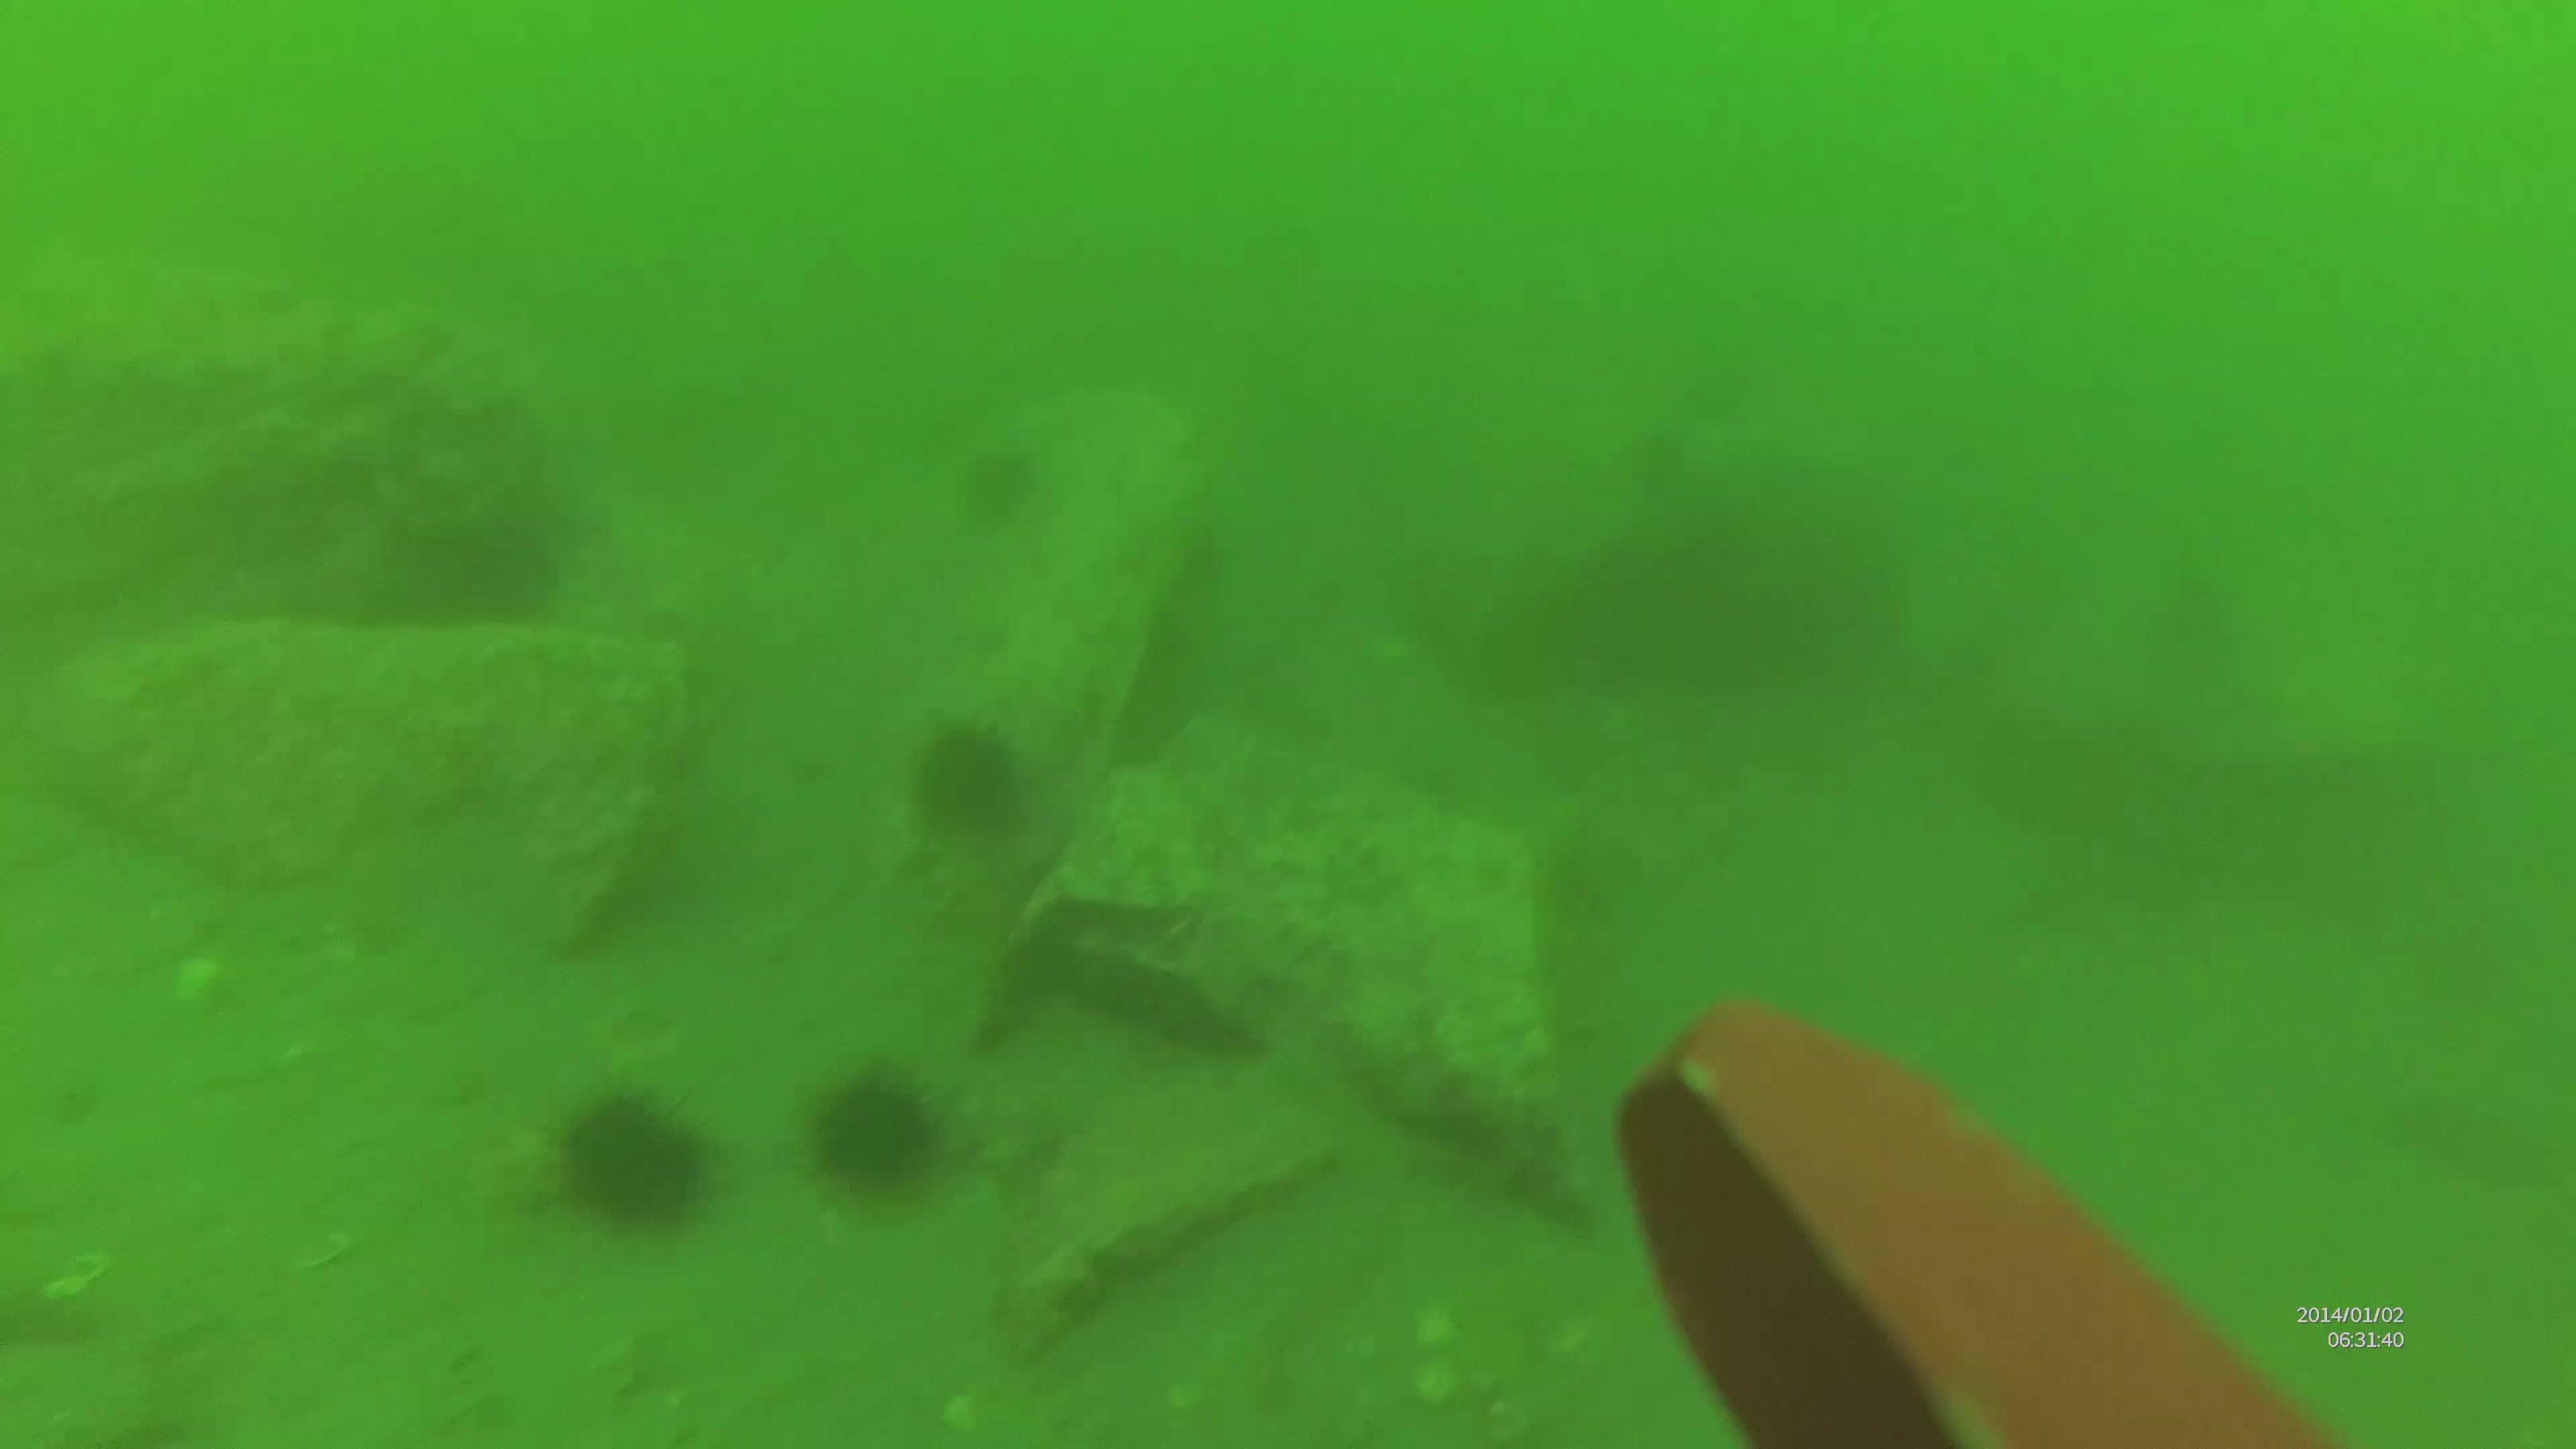echinus: (547, 1085, 722, 1224), (809, 1063, 950, 1194), (911, 729, 1024, 828)
